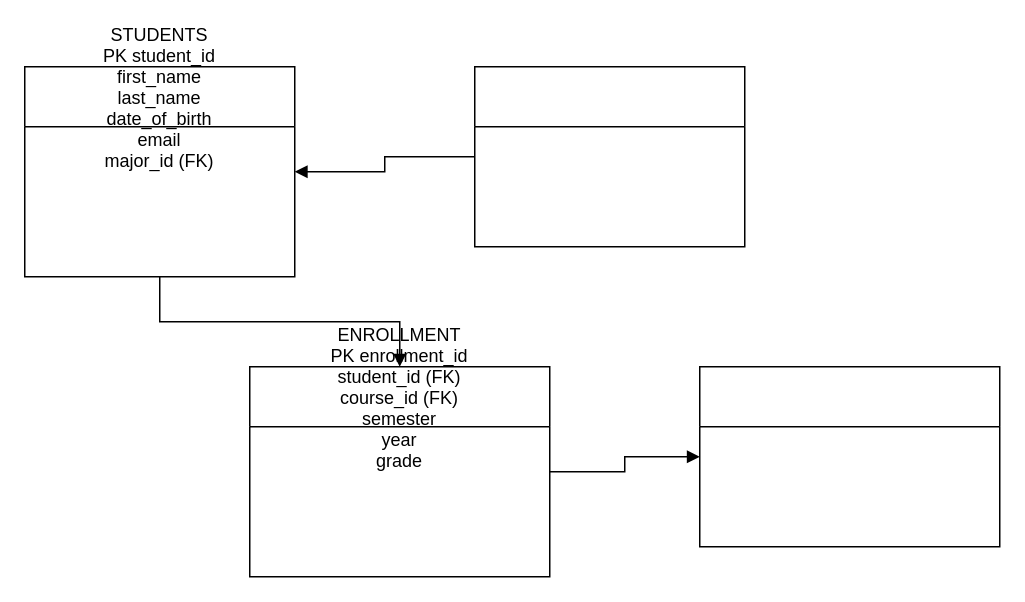
Some shapes in this 1025 by 602 pixel diagram are drawn without their labels. The shapes that lost their labels are listed below. From the top down, each one's box as (x1, y1, x2, y2) in pixels, then its label:
(473, 65, 745, 247): MAJORS PK major_id major_name department required_credits
(698, 365, 1000, 547): COURSES PK course_id course_name course_code credits department_id (FK)
